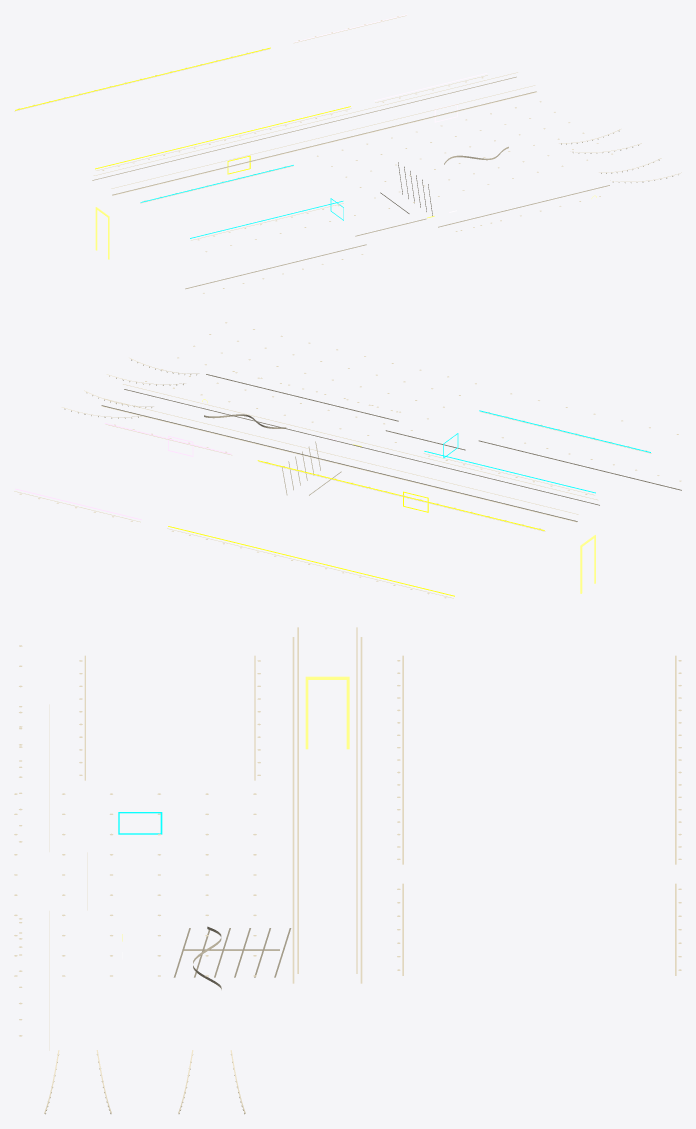
The model's file is Hub_Emissive.fbx.
3 renders of one model, top to bottom at view 1: azimuth 30°, elevation 25°; view 2: azimuth 150°, elevation 25°; view 3: azimuth 270°, elevation 25°, orthographic. The views are drawn at different scales.
Visible parts, largest first — view 1: Emissive_LED_Tray, Emissive_LED_Ceiling, Emissive_Zone_1v1, Emissive_LED_Balcony, Emissive_Downlights, Emissive_Zone_2v2; view 2: Emissive_LED_Tray, Emissive_LED_Ceiling, Emissive_Zone_1v1, Emissive_LED_Balcony, Emissive_Downlights, Emissive_Zone_2v2; view 3: Emissive_LED_Tray, Emissive_LED_Ceiling, Emissive_Downlights, Emissive_LED_Lounge, Emissive_ProDoor.
Boxes of the visible parts, <box> form: Emissive_LED_Tray: <box>92,72,536,195</box>; Emissive_LED_Ceiling: <box>14,15,487,240</box>; Emissive_Zone_1v1: <box>15,47,350,169</box>; Emissive_LED_Balcony: <box>185,185,609,289</box>; Emissive_Downlights: <box>18,16,612,293</box>; Emissive_Zone_2v2: <box>140,165,343,238</box>; Emissive_LED_Tray: <box>101,384,599,522</box>; Emissive_LED_Ceiling: <box>14,411,651,598</box>; Emissive_Zone_1v1: <box>168,460,544,596</box>; Emissive_LED_Balcony: <box>206,374,681,490</box>; Emissive_Downlights: <box>19,322,681,598</box>; Emissive_Zone_2v2: <box>424,410,650,493</box>; Emissive_LED_Tray: <box>292,627,362,983</box>; Emissive_LED_Ceiling: <box>84,655,676,975</box>; Emissive_Downlights: <box>14,645,681,1036</box>; Emissive_LED_Lounge: <box>173,926,291,989</box>; Emissive_ProDoor: <box>305,676,349,749</box>.
Bounding box in the file's own units: 200 × 27.95 × 140.
